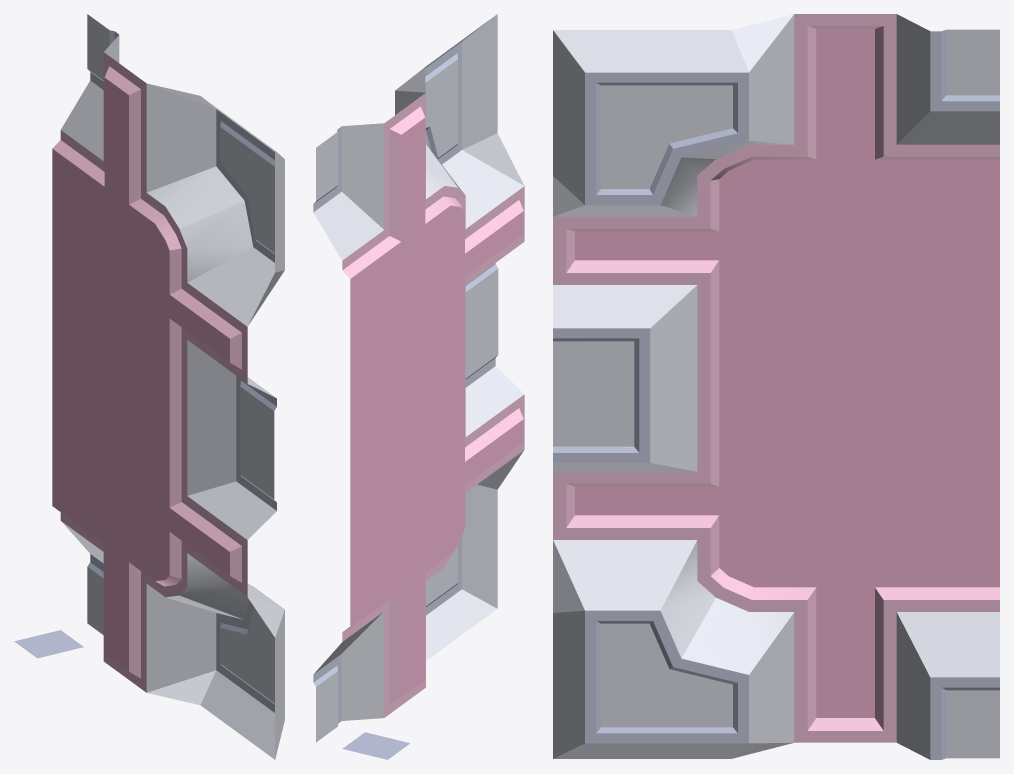
The model's file is WallPanel_EndLeft.fbx.
The picture shows the model from 3 angles, left to right: view 1: azimuth 30°, elevation 25°; view 2: azimuth 150°, elevation 25°; view 3: azimuth 270°, elevation 25°; orthographic projection. The views are drawn at different scales.
Parts seen in each view (by area): view 1: EndPanelLeft1; view 2: EndPanelLeft1; view 3: EndPanelLeft1.
Boxes of the visible parts, x1,y1,x2,y2 form: EndPanelLeft1: (14,14,284,759); EndPanelLeft1: (313,14,524,759); EndPanelLeft1: (553,14,999,759).
Size of the model in its own units: 60.19 by 360 by 200.
Materials: 1 (1 with a texture image).
